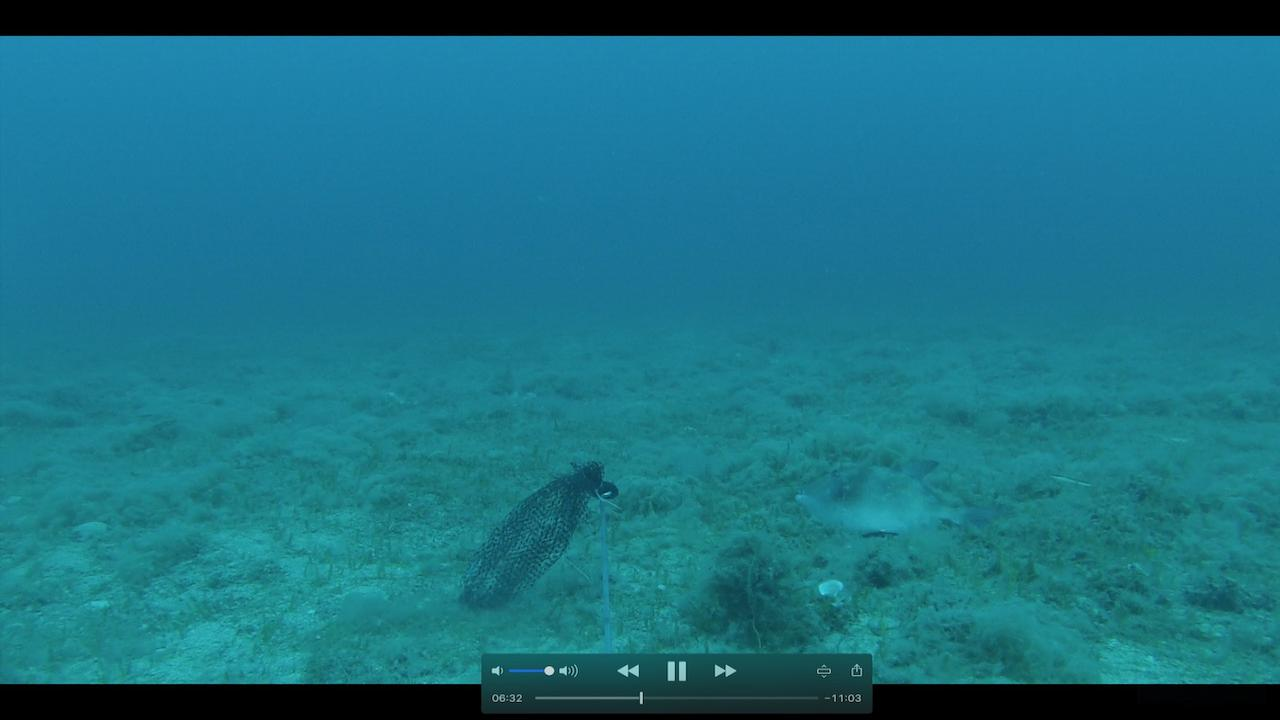balistes: (792, 452, 1016, 544)
